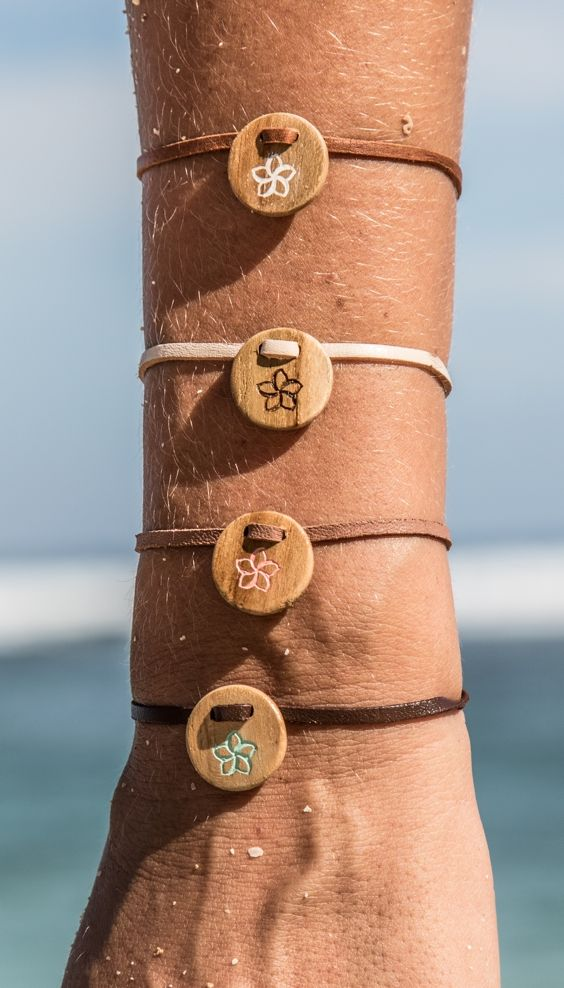cuero: (127, 129, 468, 729)
